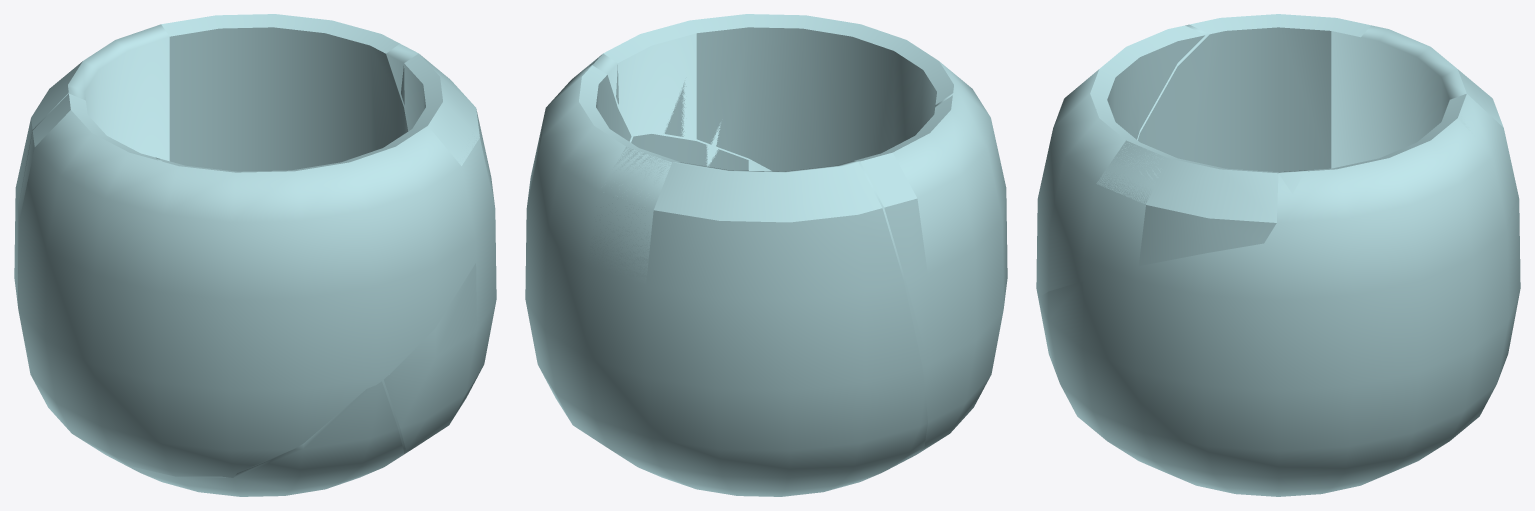
The model's file is Coffee bowl.fbx.
The picture shows the model from 3 angles, left to right: view 1: azimuth 30°, elevation 25°; view 2: azimuth 150°, elevation 25°; view 3: azimuth 270°, elevation 25°; orthographic projection.
Visible parts, largest first — view 1: Coffee_bowl, Coffee_bowl_cell.002, Coffee_bowl_cell.004, Coffee_bowl_cell, Coffee_bowl_cell.001, Coffee_bowl_cell.003; view 2: Coffee_bowl_cell.002, Coffee_bowl, Coffee_bowl_cell.001, Coffee_bowl_cell.003, Coffee_bowl_cell; view 3: Coffee_bowl, Coffee_bowl_cell.003, Coffee_bowl_cell.001, Coffee_bowl_cell, Coffee_bowl_cell.002.
Part boxes in pixels (x1,y1,x2,y2): Coffee_bowl: (18,24,496,477); Coffee_bowl_cell.002: (14,14,408,416); Coffee_bowl_cell.004: (92,381,403,496); Coffee_bowl_cell: (384,263,476,452); Coffee_bowl_cell.001: (160,53,491,192); Coffee_bowl_cell.003: (18,93,157,297); Coffee_bowl_cell.002: (579,65,927,496); Coffee_bowl: (525,33,1007,496); Coffee_bowl_cell.001: (585,14,953,171); Coffee_bowl_cell.003: (854,95,952,363); Coffee_bowl_cell: (631,134,748,170); Coffee_bowl: (1036,24,1520,496); Coffee_bowl_cell.003: (1138,14,1370,172); Coffee_bowl_cell.001: (1090,25,1304,265); Coffee_bowl_cell: (1039,281,1106,440); Coffee_bowl_cell.002: (1307,69,1520,383).
Size of the model in its own units: 39.03 by 31.23 by 39.03.
